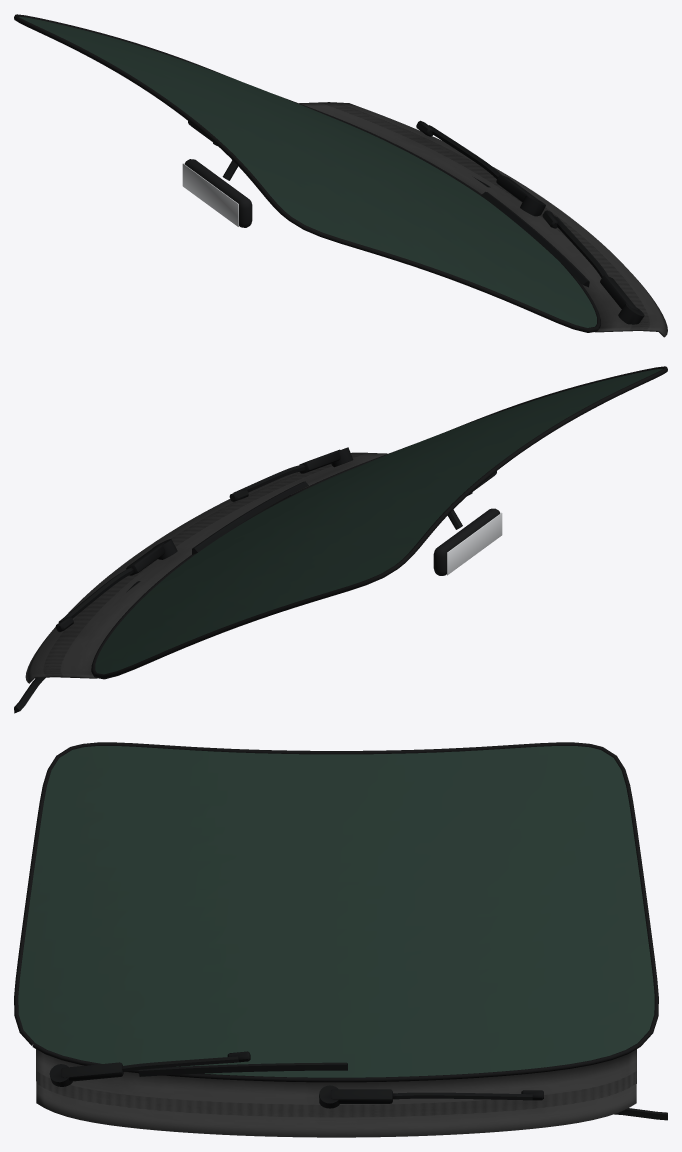
The model's file is windshield-hi-v1.glb.
The picture shows the model from 3 angles, top to bottom: view 1: azimuth 30°, elevation 25°; view 2: azimuth 150°, elevation 25°; view 3: azimuth 270°, elevation 25°; orthographic projection. The views are drawn at different scales.
Visible parts, largest first — view 1: glass, cowl, moulding, mirror, wiper_R_arm, wiper_L_arm, wiper_R_blade; view 2: glass, cowl, moulding, mirror, wiper_L_arm, wiper_R_blade, wiper_R_arm, wiper_L_blade; view 3: glass, cowl, moulding, wiper_L_arm, wiper_R_arm, wiper_R_blade.
Boxes of the visible parts, x1,y1,x2,y2 form: glass: [19, 16, 596, 327]; cowl: [299, 102, 667, 337]; moulding: [14, 14, 600, 332]; mirror: [182, 121, 252, 227]; wiper_R_arm: [554, 216, 644, 324]; wiper_L_arm: [429, 125, 545, 216]; wiper_R_blade: [481, 191, 589, 287]; glass: [95, 368, 662, 674]; cowl: [25, 452, 387, 683]; moulding: [91, 366, 667, 679]; mirror: [433, 471, 502, 575]; wiper_L_arm: [58, 539, 177, 622]; wiper_R_blade: [192, 481, 308, 554]; wiper_R_arm: [233, 447, 353, 492]; wiper_L_blade: [14, 581, 140, 713]; glass: [18, 746, 654, 1077]; cowl: [36, 1049, 636, 1137]; moulding: [14, 742, 658, 1082]; wiper_L_arm: [319, 1085, 532, 1108]; wiper_R_arm: [49, 1056, 238, 1086]; wiper_R_blade: [138, 1051, 347, 1076].
Bounding box in the file's own units: 1.04 × 0.5181 × 1.45.
Materials: 9 (2 with a texture image).
